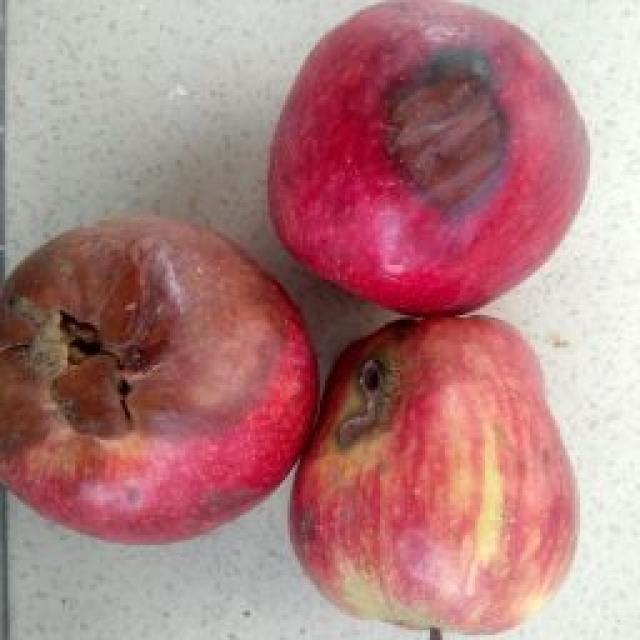Bad_Apple: (0, 216, 318, 543), (270, 1, 589, 314), (291, 318, 579, 632)
